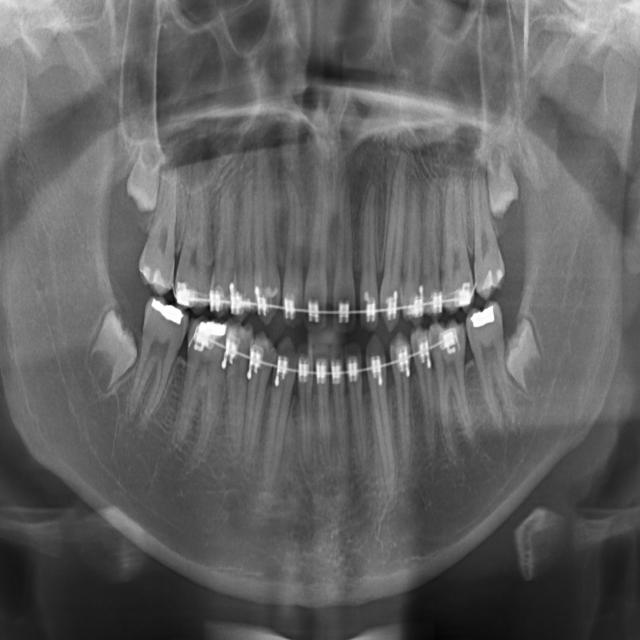AmalgamRestoration: (140, 291, 187, 337), (466, 299, 508, 338), (188, 317, 230, 352)
CompositeResinRestoration: (138, 254, 175, 297), (482, 257, 504, 301)
